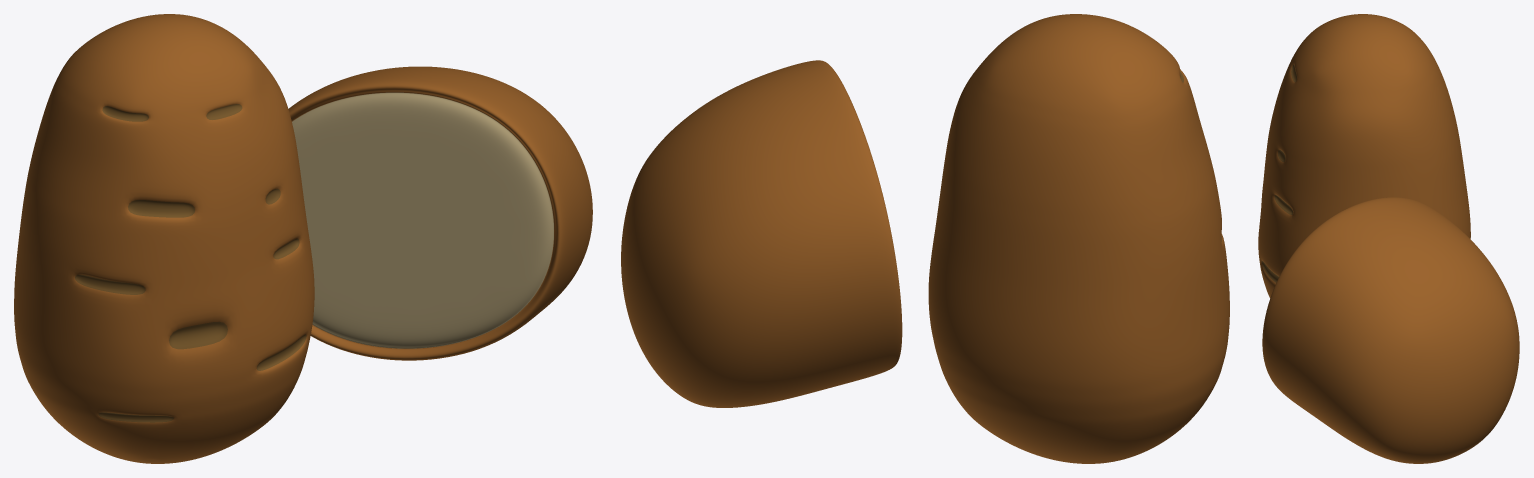
Rendered from potato.fbx.
3 renders of one model, left to right at view 1: azimuth 30°, elevation 25°; view 2: azimuth 150°, elevation 25°; view 3: azimuth 270°, elevation 25°, orthographic. The views are drawn at different scales.
Visible parts, largest first — view 1: Cube.003, Cube.004; view 2: Cube.003, Cube.004; view 3: Cube.004, Cube.003.
Boxes of the visible parts, x1,y1,x2,y2 form: Cube.003: [14, 14, 314, 463]; Cube.004: [288, 66, 592, 360]; Cube.003: [928, 14, 1229, 463]; Cube.004: [621, 60, 902, 407]; Cube.004: [1262, 197, 1519, 463]; Cube.003: [1258, 14, 1470, 298].
Bounding box in the file's own units: 264 × 193 × 141.
